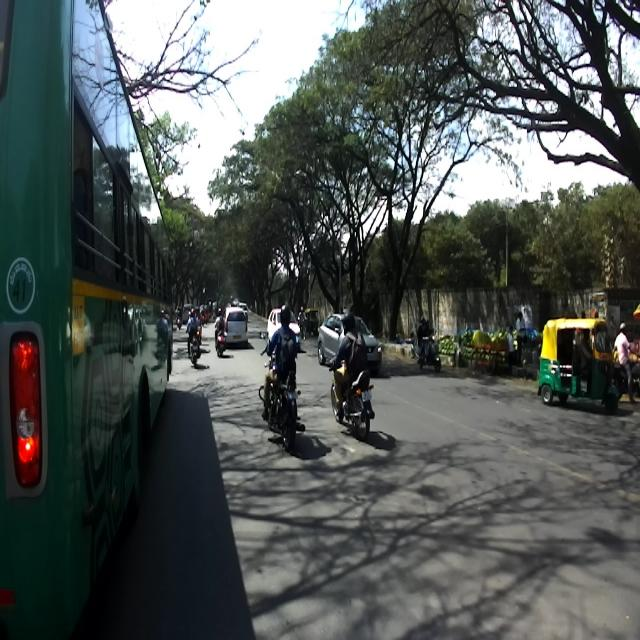autorickshaw: (537, 316, 619, 414)
bus: (0, 0, 178, 637)
car: (317, 312, 382, 375)
motorcycle: (258, 329, 306, 451), (326, 351, 374, 439)
